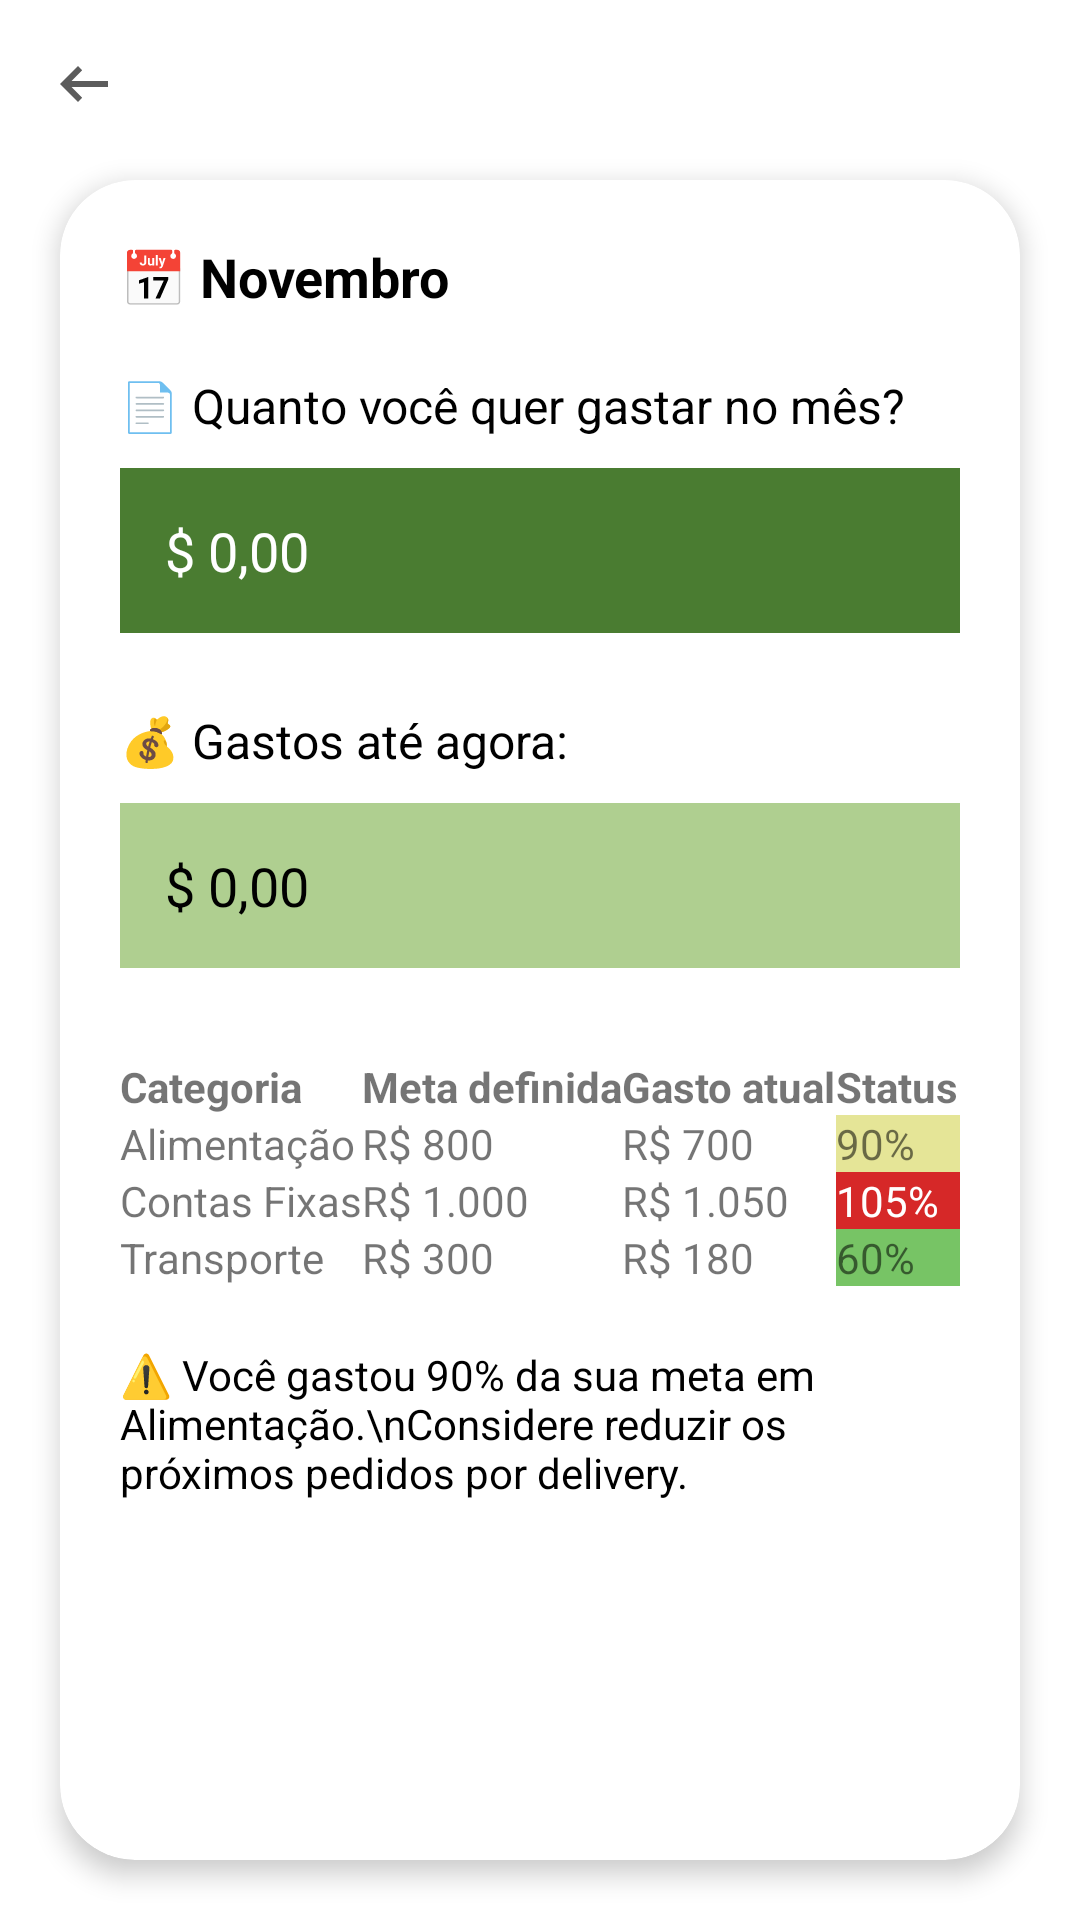

Point at icon controls on the screen. Image size 1080x1920, points as (x,y).
Voltar: (84,84)
